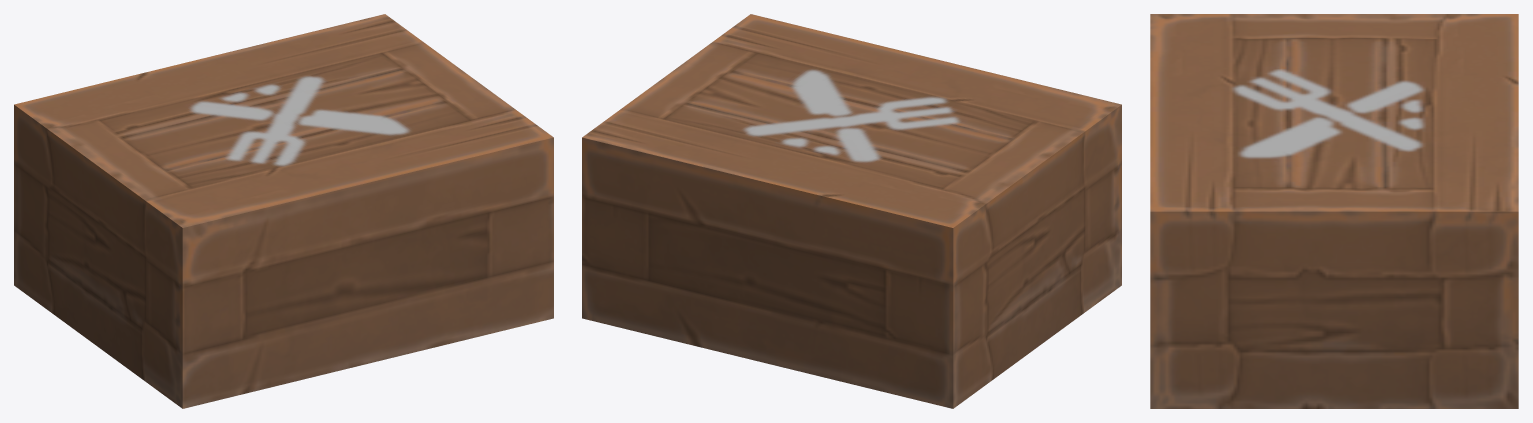
Rendered from Prfb_Daily.fbx.
3 views of the same model, side by side, from view 1: azimuth 30°, elevation 25°; view 2: azimuth 150°, elevation 25°; view 3: azimuth 270°, elevation 25° (orthographic). The views are drawn at different scales.
Parts seen in each view (by area): view 1: Mat_Bulletbox; view 2: Mat_Bulletbox; view 3: Mat_Bulletbox.
Boxes of the visible parts, x1=… form: Mat_Bulletbox: x1=14, y1=14, x2=553, y2=408; Mat_Bulletbox: x1=582, y1=14, x2=1121, y2=408; Mat_Bulletbox: x1=1150, y1=14, x2=1518, y2=408.
Bounding box in the file's own units: 0.628 × 0.2925 × 0.4946.
Materials: 1 (1 with a texture image).
